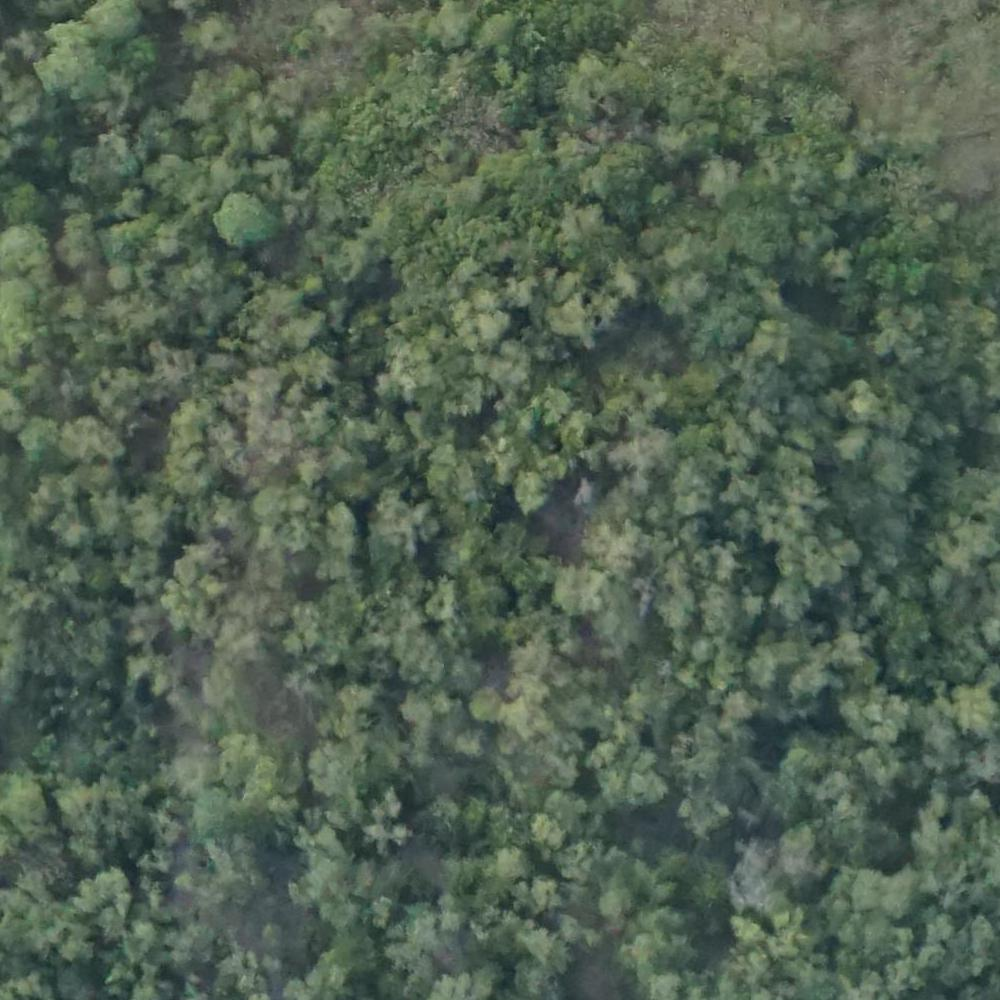tree: (160, 564, 222, 630), (844, 690, 911, 748), (595, 753, 666, 807), (725, 835, 780, 903), (1, 773, 51, 845), (76, 874, 133, 931), (869, 439, 928, 494), (212, 195, 273, 248), (49, 28, 104, 86), (554, 560, 609, 618), (726, 36, 775, 99), (363, 793, 414, 853), (869, 232, 925, 283), (591, 517, 642, 573), (256, 490, 309, 543), (491, 342, 543, 394), (1, 225, 53, 275), (790, 528, 836, 582), (213, 736, 260, 786), (282, 612, 325, 664), (459, 295, 501, 342), (3, 185, 54, 223), (660, 578, 699, 627), (75, 141, 116, 187), (600, 698, 648, 736), (753, 313, 788, 365), (949, 682, 989, 727), (836, 621, 873, 667), (772, 576, 810, 619), (703, 158, 747, 193), (495, 841, 533, 881), (434, 7, 472, 45), (201, 7, 237, 46), (481, 15, 518, 50), (59, 218, 94, 255), (471, 689, 505, 726), (90, 1, 124, 37), (311, 1, 347, 34), (837, 381, 872, 413), (839, 428, 869, 463), (509, 473, 544, 499), (721, 92, 739, 142), (880, 397, 915, 422), (528, 818, 554, 849)
